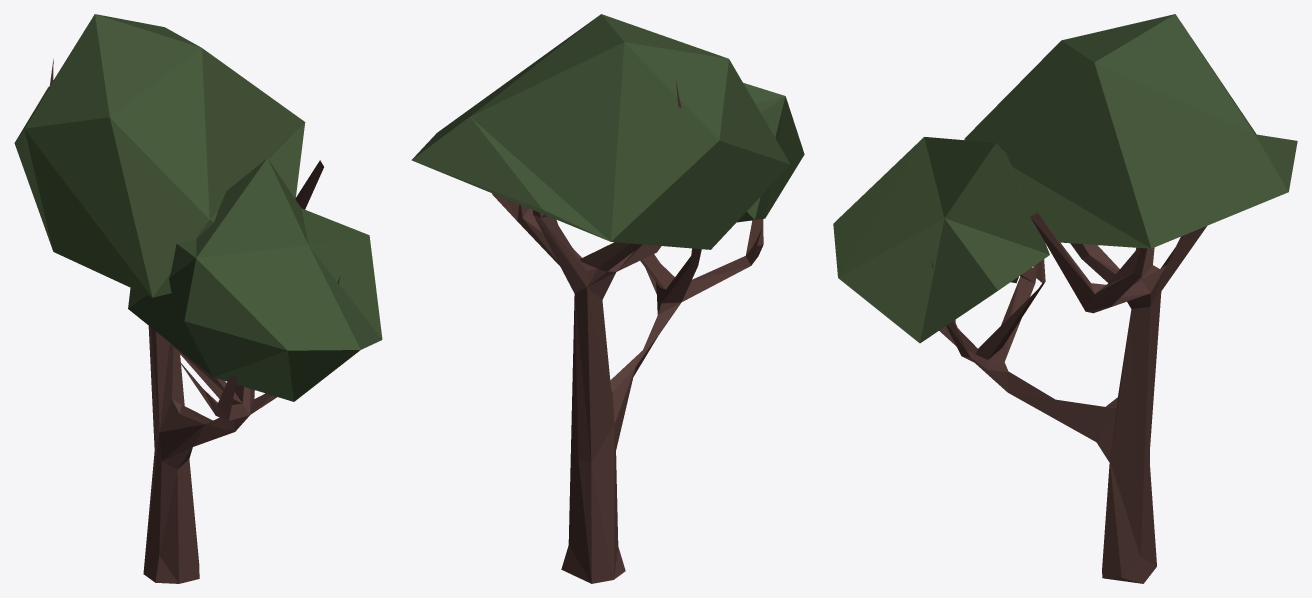
The model's file is CommonTree_2_lod.glb.
3 renders of one model, left to right at view 1: azimuth 30°, elevation 25°; view 2: azimuth 150°, elevation 25°; view 3: azimuth 270°, elevation 25°, orthographic. The views are drawn at different scales.
Parts seen in each view (by area): view 1: CommonTree_2; view 2: CommonTree_2; view 3: CommonTree_2.
Boxes of the visible parts, x1,y1,x2,y2 form: CommonTree_2: (14, 14, 382, 583); CommonTree_2: (411, 14, 804, 583); CommonTree_2: (833, 14, 1297, 583).
Bounding box in the file's own units: 1.65 × 3.12 × 2.46.
